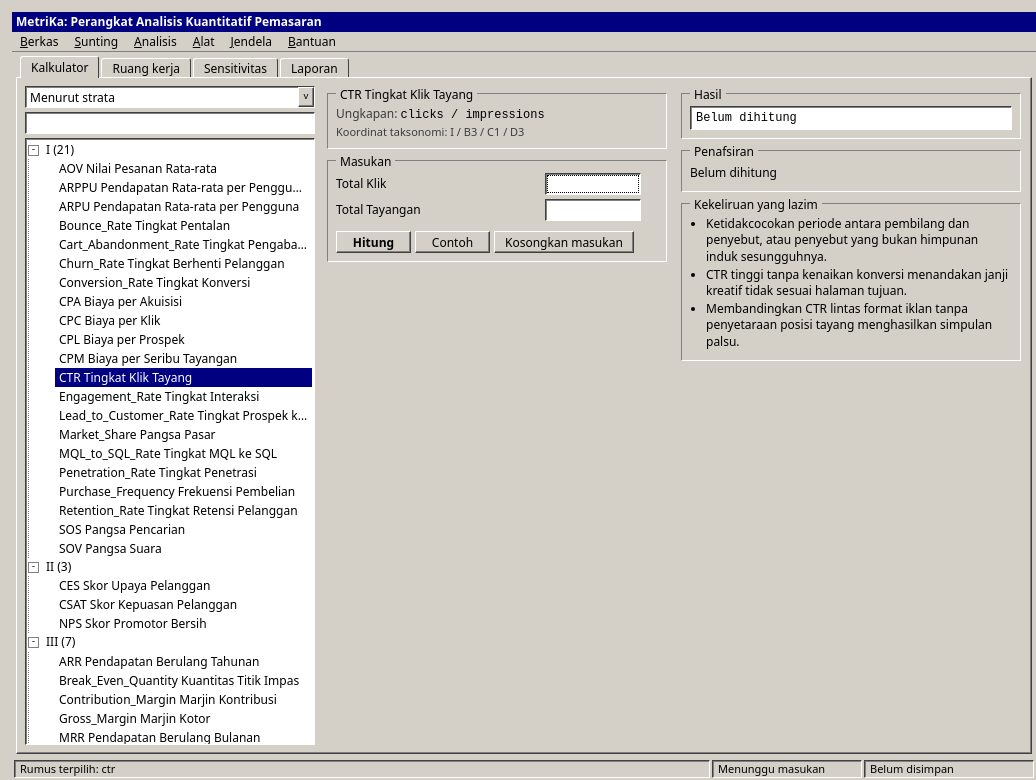
it: the report as a document › states plainly that no assumption was applied, rather than leaving the section empty
The image size is (1036, 780).
Click the tab "Laporan" at (314, 68), box [280,58,348,78]
(page scrolled)
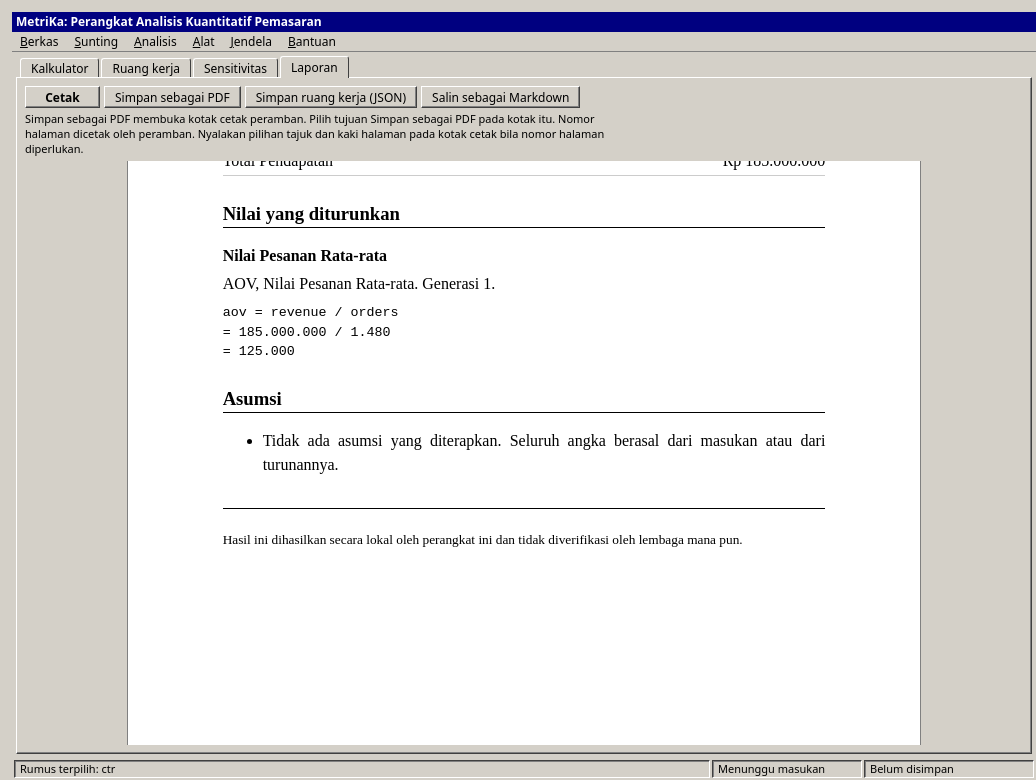
Check: the list item "Tidak ada asumsi yang diterapkan" is shown, box [263,432,825,473]
